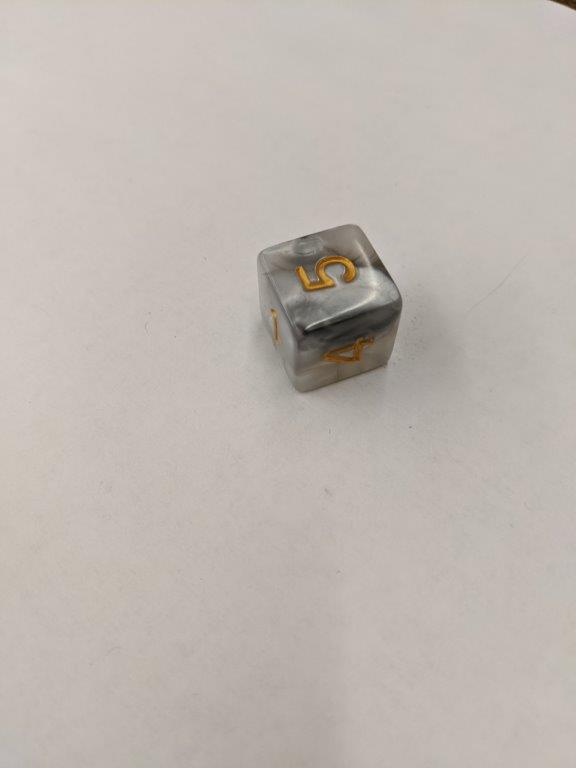d6-5: (257, 222, 404, 396)
